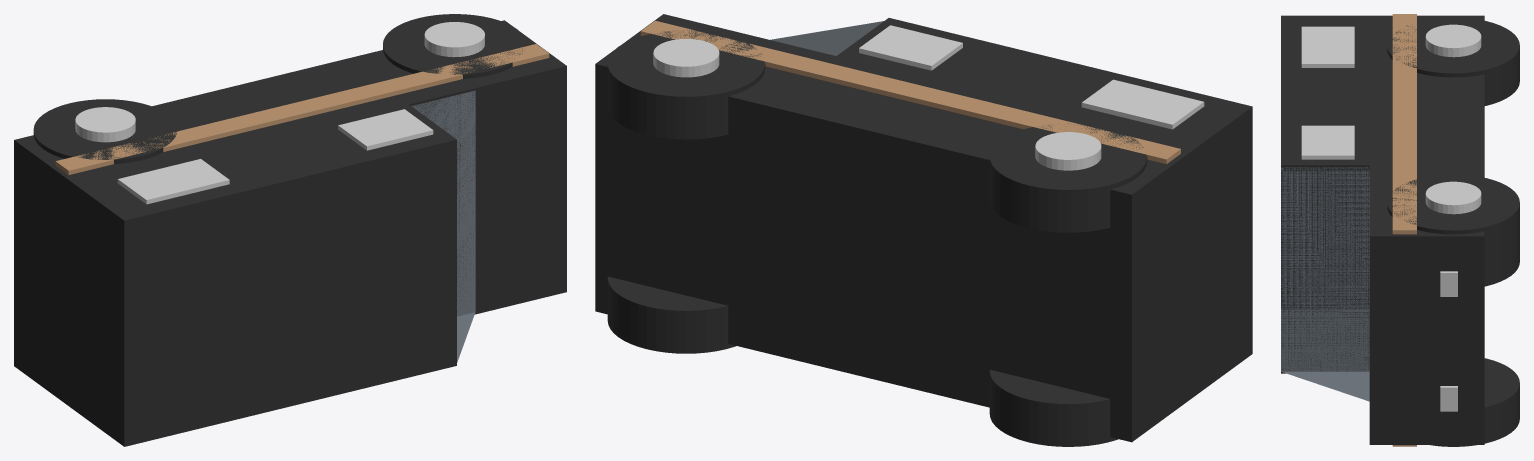
Rendered from van.glb.
3 views of the same model, side by side, from view 1: azimuth 30°, elevation 25°; view 2: azimuth 150°, elevation 25°; view 3: azimuth 270°, elevation 25° (orthographic). The views are drawn at different scales.
Visible parts, largest first — view 1: world; view 2: world; view 3: world.
Part boxes in pixels (<box>): world: <box>14,14,566,446</box>; world: <box>595,14,1252,446</box>; world: <box>1281,14,1519,446</box>.
Bounding box in the file's own units: 119 × 58.5 × 54.
